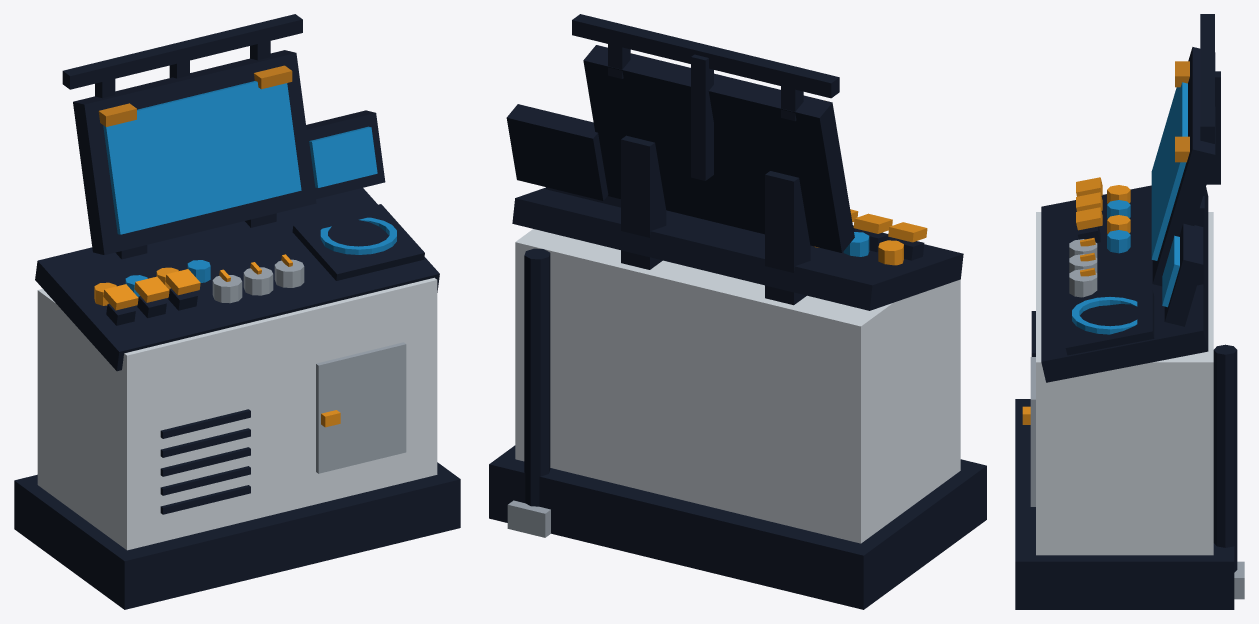
3 renders of one model, left to right at view 1: azimuth 30°, elevation 25°; view 2: azimuth 150°, elevation 25°; view 3: azimuth 270°, elevation 25°, orthographic. The views are drawn at different scales.
Parts seen in each view (by area): view 1: DL005_ResearchConsole_graphite_navy, DL005_ResearchConsole_hull_offwhite, DL005_ResearchConsole_emissive_cyan, DL005_ResearchConsole_titanium, DL005_ResearchConsole_amber_accent, DL005_ResearchConsole_emissive_amber; view 2: DL005_ResearchConsole_graphite_navy, DL005_ResearchConsole_hull_offwhite, DL005_ResearchConsole_amber_accent, DL005_ResearchConsole_titanium; view 3: DL005_ResearchConsole_graphite_navy, DL005_ResearchConsole_hull_offwhite, DL005_ResearchConsole_emissive_cyan, DL005_ResearchConsole_titanium, DL005_ResearchConsole_amber_accent, DL005_ResearchConsole_emissive_amber.
Part boxes in pixels (box(x1,y1,x2,y2)): DL005_ResearchConsole_graphite_navy: box(14, 14, 460, 609); DL005_ResearchConsole_hull_offwhite: box(37, 277, 437, 550); DL005_ResearchConsole_emissive_cyan: box(103, 81, 396, 297); DL005_ResearchConsole_titanium: box(212, 259, 406, 473); DL005_ResearchConsole_amber_accent: box(94, 254, 340, 427); DL005_ResearchConsole_emissive_amber: box(98, 65, 292, 126); DL005_ResearchConsole_graphite_navy: box(489, 14, 986, 609); DL005_ResearchConsole_hull_offwhite: box(515, 229, 960, 543); DL005_ResearchConsole_amber_accent: box(814, 209, 927, 265); DL005_ResearchConsole_titanium: box(507, 500, 550, 537); DL005_ResearchConsole_graphite_navy: box(1015, 14, 1237, 609); DL005_ResearchConsole_hull_offwhite: box(1036, 212, 1213, 555); DL005_ResearchConsole_emissive_cyan: box(1072, 82, 1187, 334); DL005_ResearchConsole_titanium: box(1030, 239, 1244, 599); DL005_ResearchConsole_amber_accent: box(1022, 177, 1130, 424); DL005_ResearchConsole_emissive_amber: box(1175, 61, 1189, 162).
Size of the model in its own units: 1.3 by 1.68 by 0.775.
